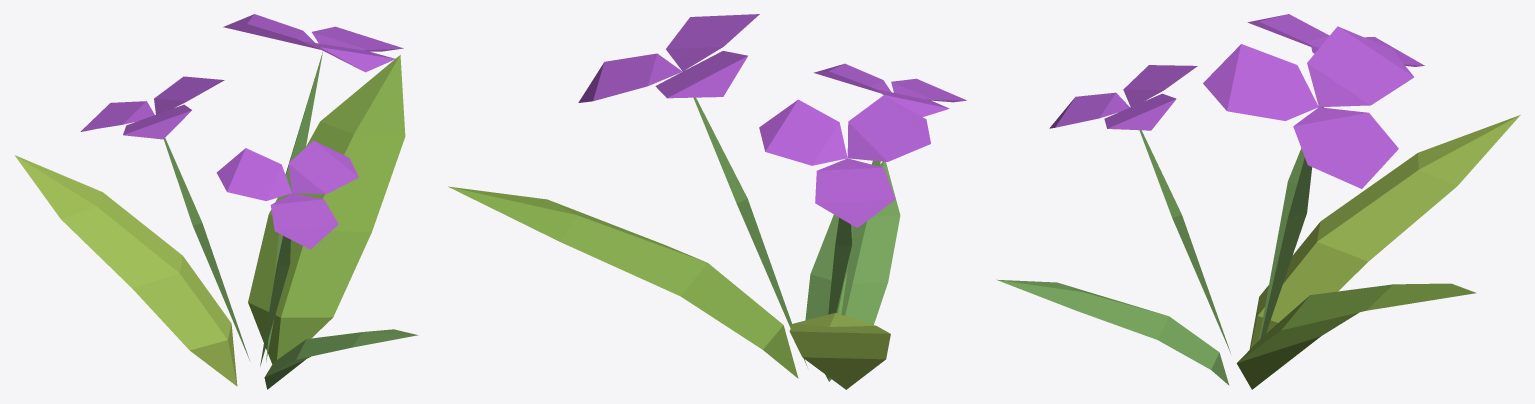
Rendered from flowers1.glb.
3 renders of one model, left to right at view 1: azimuth 30°, elevation 25°; view 2: azimuth 150°, elevation 25°; view 3: azimuth 270°, elevation 25°, orthographic. The views are drawn at different scales.
Parts seen in each view (by area): view 1: flowers1; view 2: flowers1; view 3: flowers1.
Part boxes in pixels (box(x1,y1,x2,y2)): flowers1: box(14, 14, 418, 389); flowers1: box(448, 14, 966, 389); flowers1: box(996, 14, 1520, 389).
Bounding box in the file's own units: 1.82 × 1.54 × 1.95.
1 material, 1 textured.
